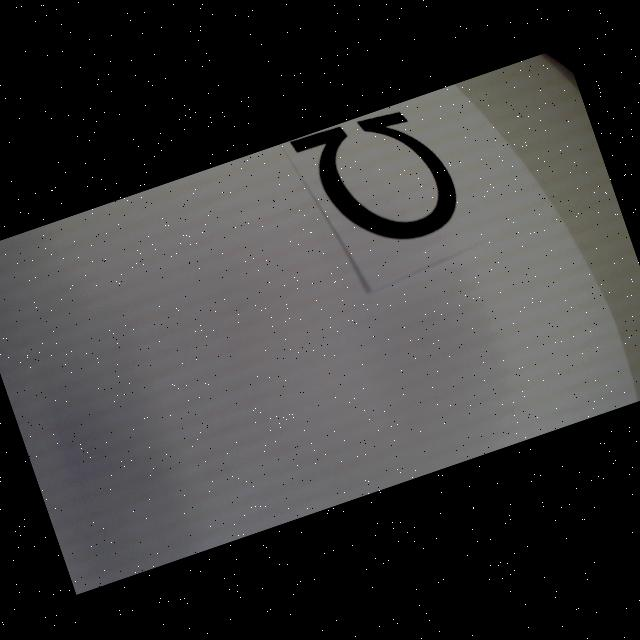OMEGA: (289, 94, 467, 268)
